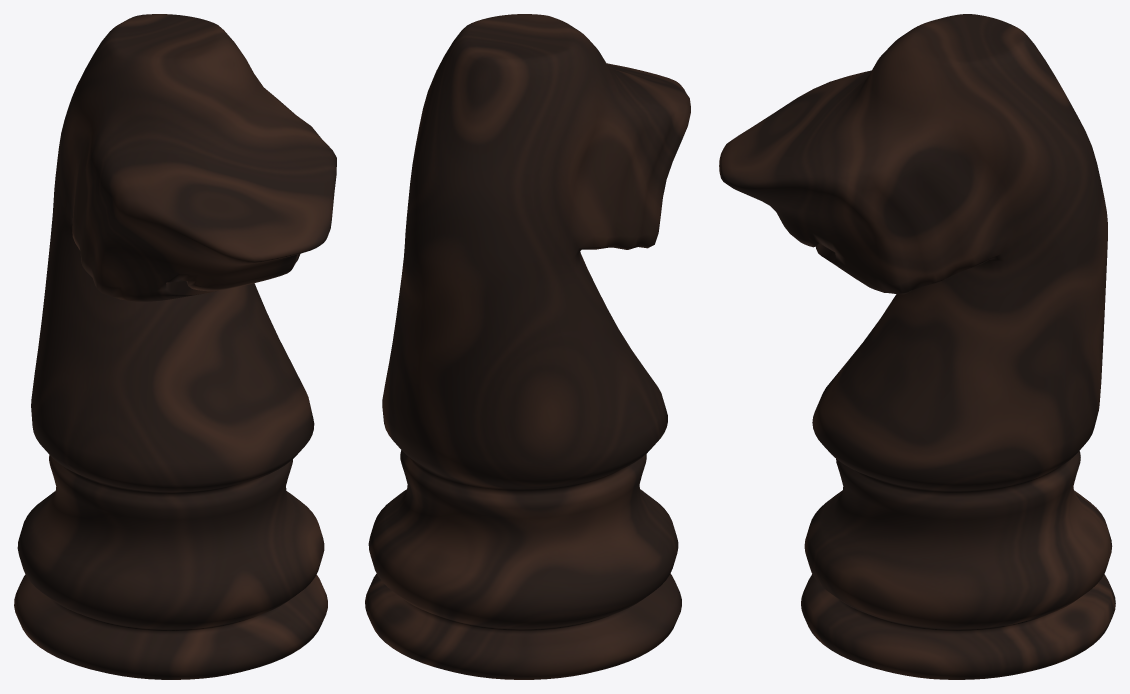
The model's file is blackKnight.fbx.
3 views of the same model, side by side, from view 1: azimuth 30°, elevation 25°; view 2: azimuth 150°, elevation 25°; view 3: azimuth 270°, elevation 25° (orthographic).
Parts seen in each view (by area): view 1: blackKnight; view 2: blackKnight; view 3: blackKnight.
Boxes of the visible parts, x1,y1,x2,y2 form: blackKnight: (14, 14, 336, 679); blackKnight: (365, 14, 690, 679); blackKnight: (719, 14, 1115, 679).
Bounding box in the file's own units: 67 × 138 × 84.39.
Materials: 1 (1 with a texture image).
